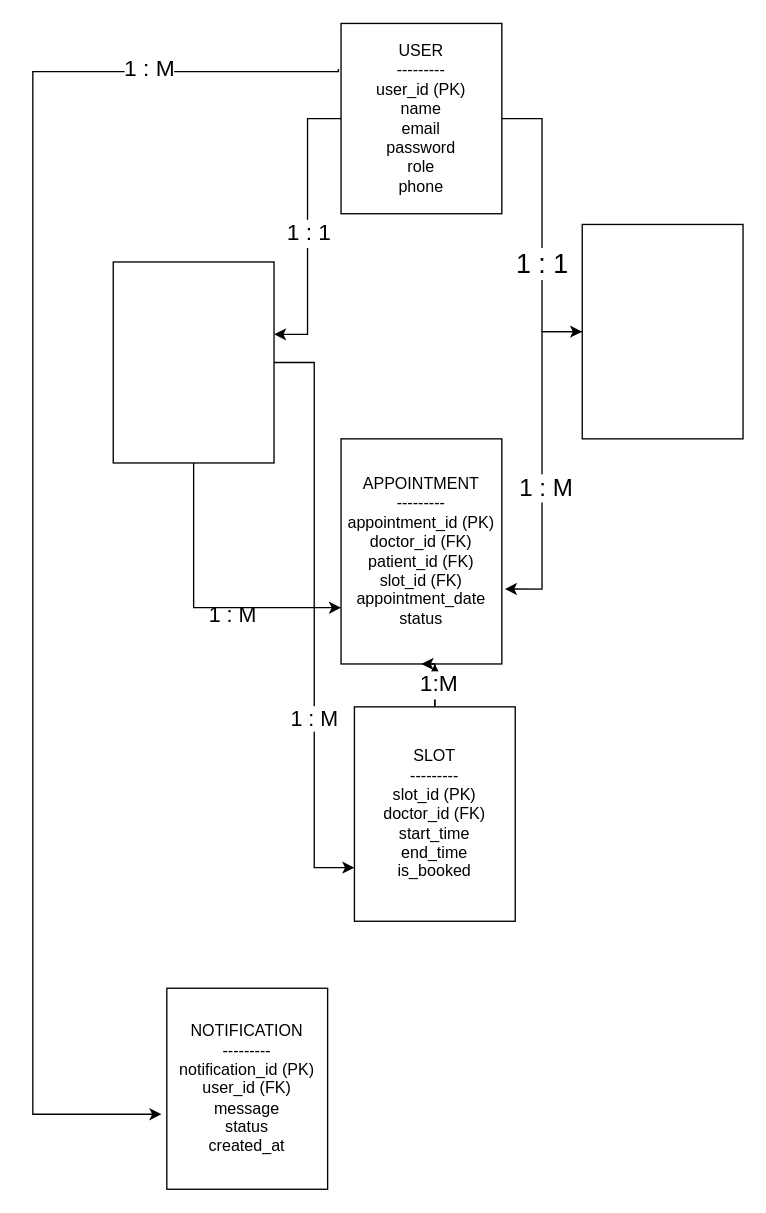
Image size: 766x1213. Some labels were removed from this diagram. Here are the shapes that lost their labels. From the top down, the centre of each, then its label:
the point at 662,331: PATIENT --------- patient_id (PK) user_id (FK) age gender
the point at 193,362: DOCTOR --------- doctor_id (PK) user_id (FK) specialization experience
